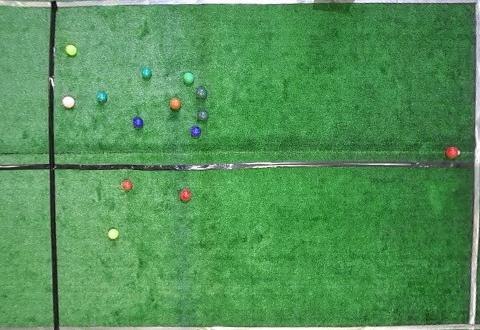blue: (133, 117, 143, 129), (191, 126, 201, 137)
green: (182, 72, 194, 84), (96, 91, 107, 104), (197, 110, 208, 121), (196, 88, 207, 99), (141, 68, 152, 79)
red: (445, 146, 459, 159), (62, 96, 75, 108), (170, 98, 182, 110), (180, 190, 191, 202), (122, 180, 133, 190)
vline: (1, 1, 60, 329), (466, 1, 479, 329)
white: (457, 150, 461, 155)
yellow: (65, 45, 77, 56), (108, 229, 119, 239)
